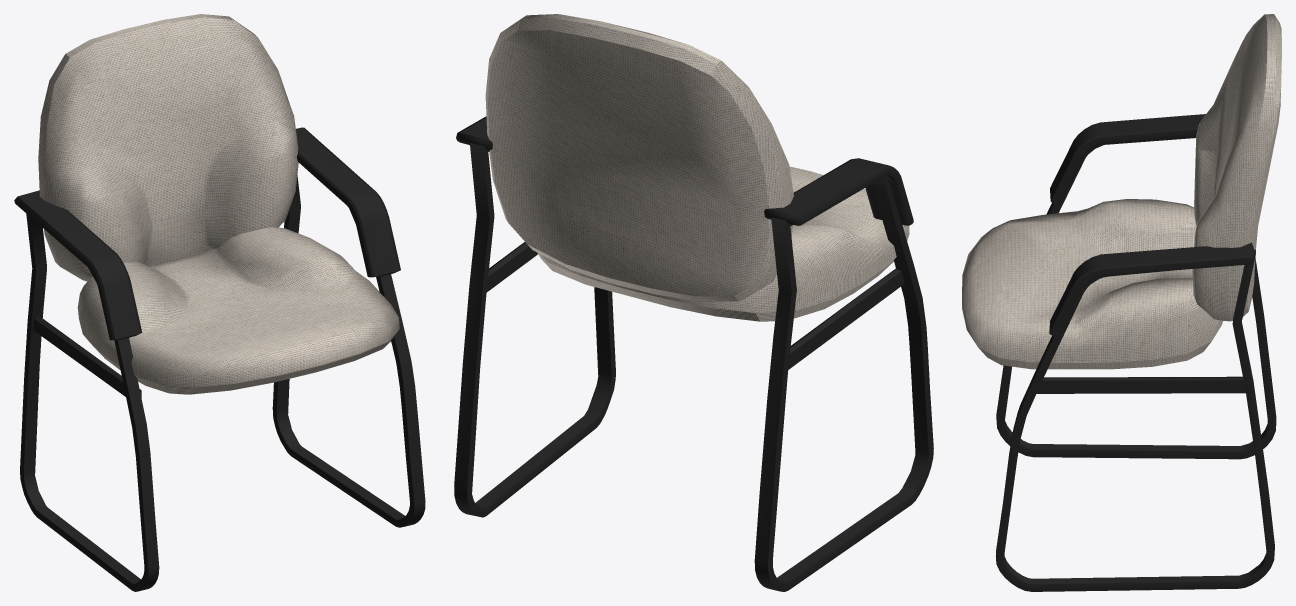
The model's file is Chair.FBX.
The picture shows the model from 3 angles, left to right: view 1: azimuth 30°, elevation 25°; view 2: azimuth 150°, elevation 25°; view 3: azimuth 270°, elevation 25°; orthographic projection. The views are drawn at different scales.
Parts seen in each view (by area): view 1: Chair; view 2: Chair; view 3: Chair.
Boxes of the visible parts, x1,y1,x2,y2 form: Chair: (14, 14, 425, 591); Chair: (454, 14, 933, 591); Chair: (962, 14, 1281, 591).
Size of the model in its own units: 70.4 by 104 by 63.84.
Materials: 2 (1 with a texture image).
